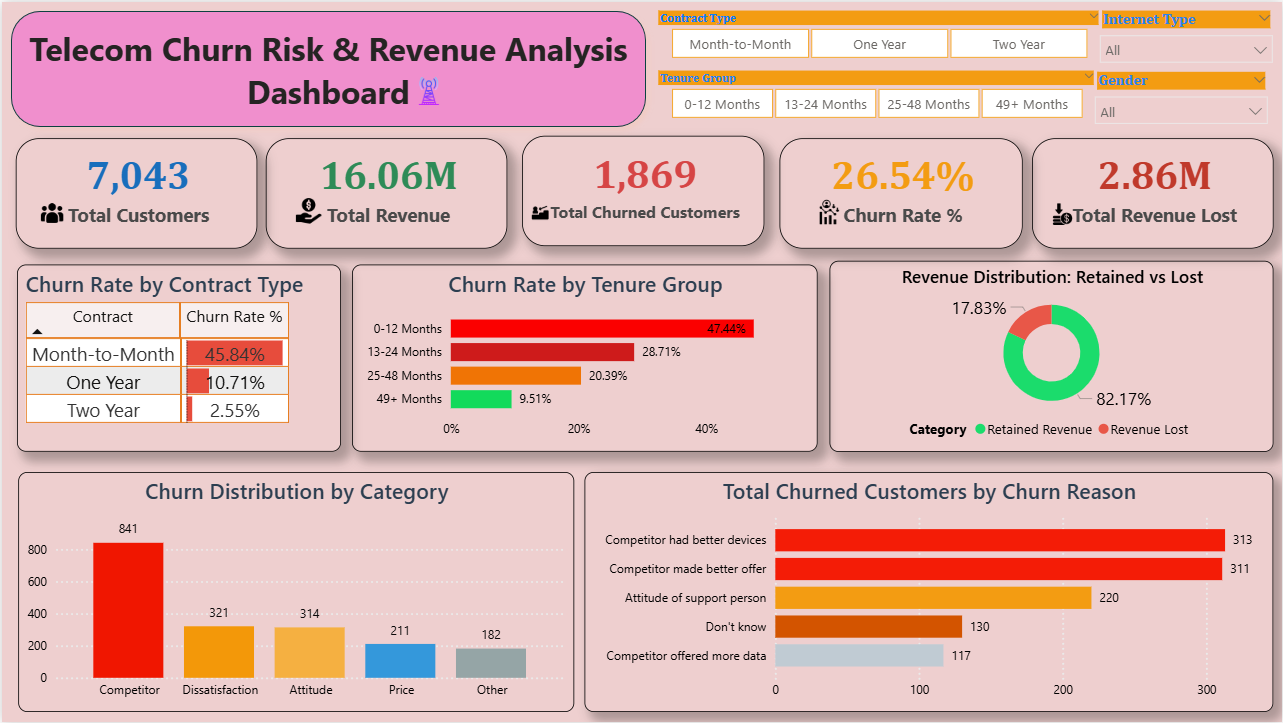

Layout of this report page (visuals, bound fields, positions):
{"tool":"powerbi","page":{"name":"Telecom_Customer_Churn_Analysis_Dashboard","canvas":[1280,720],"ordinal":0},"visuals":[{"type":"slicer","fields":{"Values":["telecom_customer_churn.Internet Type"]},"box":[1086.5,3.5,193.5,70.6],"z":0,"group":"g1"},{"type":"slicer","fields":{"Values":["telecom_customer_churn.Tenure Group"]},"box":[643.8,63.9,460.9,60.4],"z":0,"group":"g2"},{"type":"card","title":"Total Customers","fields":{"Values":["telecom_customer_churn.Total Customers"]},"box":[14.3,135.7,241.4,110],"z":0},{"type":"shape","box":[0,0,653,134],"z":1000},{"type":"slicer","fields":{"Values":["telecom_customer_churn.Contract"]},"box":[643.8,3.5,465.7,60.4],"z":1000,"group":"g2"},{"type":"slicer","fields":{"Values":["telecom_customer_churn.Gender"]},"box":[1082,65,193.5,87.2],"z":1000,"group":"g1"},{"type":"group","id":"g1","title":"Group 1","box":[1082,3.5,198.1,148.8],"z":2000,"group":"g2"},{"type":"card","fields":{"Values":["telecom_customer_churn.Revenue Lost"]},"box":[1030,135.7,241.4,110],"z":2000},{"type":"card","fields":{"Values":["telecom_customer_churn.Churned Customers"]},"box":[520,134.3,242.1,110],"z":3000},{"type":"card","fields":{"Values":["telecom_customer_churn.Total Revenue"]},"box":[264.3,135.7,241.4,110],"z":4000},{"type":"card","fields":{"Values":["telecom_customer_churn.Churn Rate %"]},"box":[777.1,135.7,242.9,110],"z":5000},{"type":"pivotTable","title":"Churn Rate by Contract Type","fields":{"Rows":["telecom_customer_churn.Contract"],"Values":["telecom_customer_churn.Churn Rate %"]},"box":[15,262.5,323.8,187.5],"z":6000},{"type":"clusteredBarChart","title":"Churn Rate by Tenure Group","fields":{"Category":["telecom_customer_churn.Tenure Group"],"Y":["telecom_customer_churn.Churn Rate %"]},"box":[350,262.9,465.7,187.1],"z":7000},{"type":"donutChart","title":"Revenue Distribution: Retained vs Lost","fields":{"Category":["Revenue Category.Category"],"Y":["telecom_customer_churn.Revenue Donut Value"]},"box":[827.1,258.6,444.3,191.4],"z":8000},{"type":"columnChart","title":"Churn Distribution by Category","fields":{"Category":["telecom_customer_churn.Churn Category"],"Y":["telecom_customer_churn.Total Churned Customers"]},"box":[15.7,470,555.7,240],"z":9000},{"type":"clusteredBarChart","fields":{"Category":["telecom_customer_churn.Churn Reason"],"Y":["telecom_customer_churn.Churned Customers"]},"box":[582.9,470,688.6,240],"z":10000},{"type":"group","id":"g2","title":"Group 2","box":[643.8,3.5,636.2,148.8],"z":11000},{"type":"image","box":[400.8,67.7,51.5,43.1],"z":12000},{"type":"image","box":[33.1,194.6,34.6,32.3],"z":13000},{"type":"image","box":[287.9,190.7,38.6,35.7],"z":14000},{"type":"image","box":[805,192.9,44.3,35.7],"z":15000},{"type":"image","box":[525,197.5,26.2,26.2],"z":15001},{"type":"image","box":[1044.7,194.7,31.3,34],"z":15002}]}

Visuals, with their boxes in screenshot pixels (x1, y1, x2, y2), scaled from the page's 1280x720 canvas onto the 1283x723 screenshot:
slicer - telecom_customer_churn.Internet Type: {"left": 1089, "top": 4, "right": 1282, "bottom": 74}
slicer - telecom_customer_churn.Tenure Group: {"left": 645, "top": 64, "right": 1107, "bottom": 125}
"Total Customers" card: {"left": 14, "top": 136, "right": 256, "bottom": 247}
shape: {"left": 0, "top": 0, "right": 655, "bottom": 135}
slicer - telecom_customer_churn.Contract: {"left": 645, "top": 4, "right": 1112, "bottom": 64}
slicer - telecom_customer_churn.Gender: {"left": 1085, "top": 65, "right": 1278, "bottom": 153}
"Group 1" group: {"left": 1085, "top": 4, "right": 1282, "bottom": 153}
card - telecom_customer_churn.Revenue Lost: {"left": 1032, "top": 136, "right": 1274, "bottom": 247}
card - telecom_customer_churn.Churned Customers: {"left": 521, "top": 135, "right": 764, "bottom": 245}
card - telecom_customer_churn.Total Revenue: {"left": 265, "top": 136, "right": 507, "bottom": 247}
card - telecom_customer_churn.Churn Rate %: {"left": 779, "top": 136, "right": 1022, "bottom": 247}
"Churn Rate by Contract Type" pivotTable: {"left": 15, "top": 264, "right": 340, "bottom": 452}
"Churn Rate by Tenure Group" clusteredBarChart: {"left": 351, "top": 264, "right": 818, "bottom": 452}
"Revenue Distribution: Retained vs Lost" donutChart: {"left": 829, "top": 260, "right": 1274, "bottom": 452}
"Churn Distribution by Category" columnChart: {"left": 16, "top": 472, "right": 573, "bottom": 713}
clusteredBarChart - telecom_customer_churn.Churn Reason x telecom_customer_churn.Churned Customers: {"left": 584, "top": 472, "right": 1274, "bottom": 713}
"Group 2" group: {"left": 645, "top": 4, "right": 1282, "bottom": 153}
image: {"left": 402, "top": 68, "right": 453, "bottom": 111}
image: {"left": 33, "top": 195, "right": 68, "bottom": 228}
image: {"left": 289, "top": 191, "right": 327, "bottom": 227}
image: {"left": 807, "top": 194, "right": 851, "bottom": 230}
image: {"left": 526, "top": 198, "right": 552, "bottom": 225}
image: {"left": 1047, "top": 196, "right": 1079, "bottom": 230}
